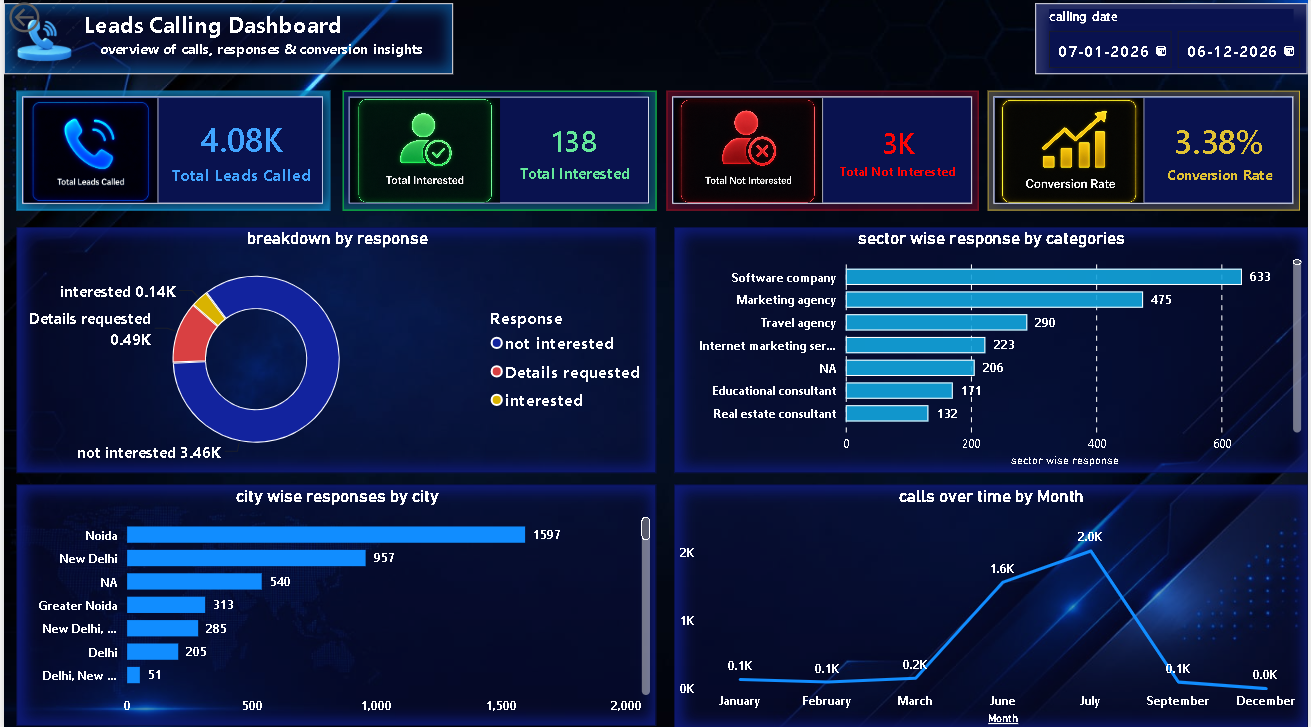

The dashboard page shown, as its layout file describes it:
{"tool":"powerbi","page":{"name":"Page 2","canvas":[1280,720],"ordinal":1},"visuals":[{"type":"donutChart","fields":{"Y":["CountNonNull(master table.response)"],"Category":["master table.response"]},"box":[12.3,225.8,628.2,241.7],"z":0},{"type":"lineChart","fields":{"Category":["master table.calling date.Variation.Date Hierarchy.Month","master table.calling date.Variation.Date Hierarchy.Day"],"Y":["master table.Total Leads Called"]},"box":[657.7,478.5,622.1,241.7],"z":1000},{"type":"cardVisual","fields":{"Data":["master table.Total Leads Called"]},"box":[12.3,92,308,117.8],"z":2000},{"type":"cardVisual","fields":{"Data":["master table.Total Not Interested"]},"box":[650.3,92,306.8,117.8],"z":3000},{"type":"cardVisual","fields":{"Data":["master table.Conversion Rate"]},"box":[965.6,92,306.8,117.8],"z":4000},{"type":"cardVisual","fields":{"Data":["master table.Total Interested"]},"box":[332.5,92,308,117.8],"z":5000},{"type":"textbox","box":[0,6.1,440.5,69.9],"z":6000},{"type":"image","box":[0,0,81,82.2],"z":7000},{"type":"barChart","fields":{"Category":["master table.city"],"Y":["CountNonNull(master table.city)"]},"box":[12.3,478.5,628.2,236.8],"z":8000},{"type":"barChart","fields":{"Category":["master table.categories"],"Y":["CountNonNull(master table.response)"]},"box":[657.7,225.8,622.1,241.7],"z":9000},{"type":"slicer","fields":{"Values":["master table.calling date"]},"box":[1012.3,6.1,267.5,69.9],"z":10000},{"type":"actionButton","box":[0,0,100,40],"z":11000}]}

Visuals, with their boxes in screenshot pixels (x1, y1, x2, y2), scaled from the page's 1280x720 canvas onto the 1311x727 screenshot:
donutChart - CountNonNull(master table.response) x master table.response: <box>13,228,656,472</box>
lineChart - master table.calling date.Variation.Date Hierarchy.Month x master table.calling date.Variation.Date Hierarchy.Day: <box>674,483,1310,726</box>
cardVisual - master table.Total Leads Called: <box>13,93,328,212</box>
cardVisual - master table.Total Not Interested: <box>666,93,980,212</box>
cardVisual - master table.Conversion Rate: <box>989,93,1303,212</box>
cardVisual - master table.Total Interested: <box>341,93,656,212</box>
textbox: <box>0,6,451,77</box>
image: <box>0,0,83,83</box>
barChart - master table.city x CountNonNull(master table.city): <box>13,483,656,722</box>
barChart - master table.categories x CountNonNull(master table.response): <box>674,228,1310,472</box>
slicer - master table.calling date: <box>1037,6,1310,77</box>
actionButton: <box>0,0,102,40</box>
